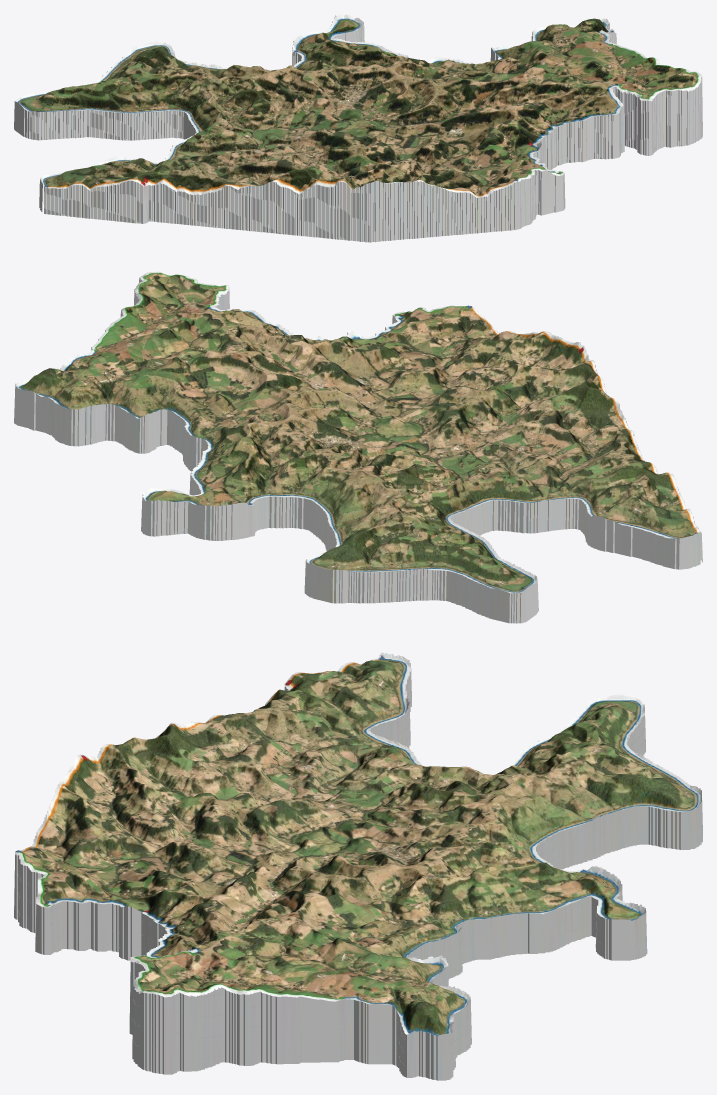
The picture shows the model from 3 angles, top to bottom: view 1: azimuth 30°, elevation 25°; view 2: azimuth 150°, elevation 25°; view 3: azimuth 270°, elevation 25°; orthographic projection. The views are drawn at different scales.
Size of the model in its own units: 0.9999 by 0.0989 by 0.748.
1 material, 1 textured.
